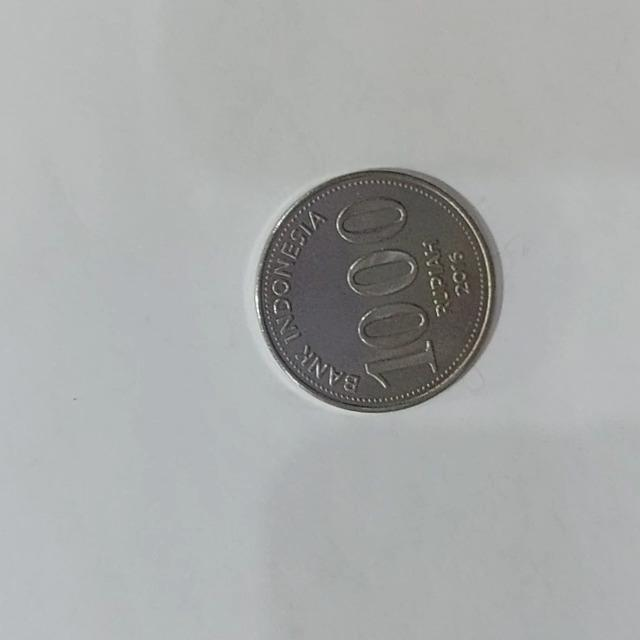Rp100: (253, 165, 502, 413)
